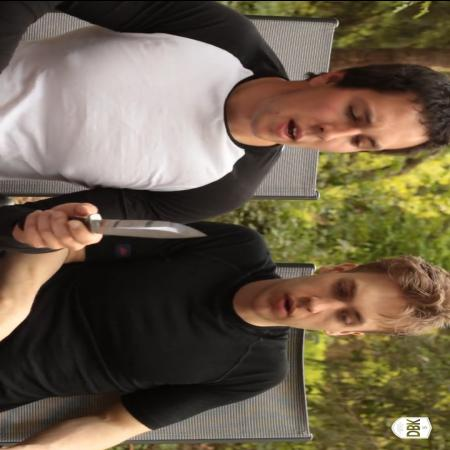long weapon: (34, 197, 216, 253)
